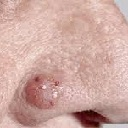Carcinoma: (25, 77, 62, 111)
